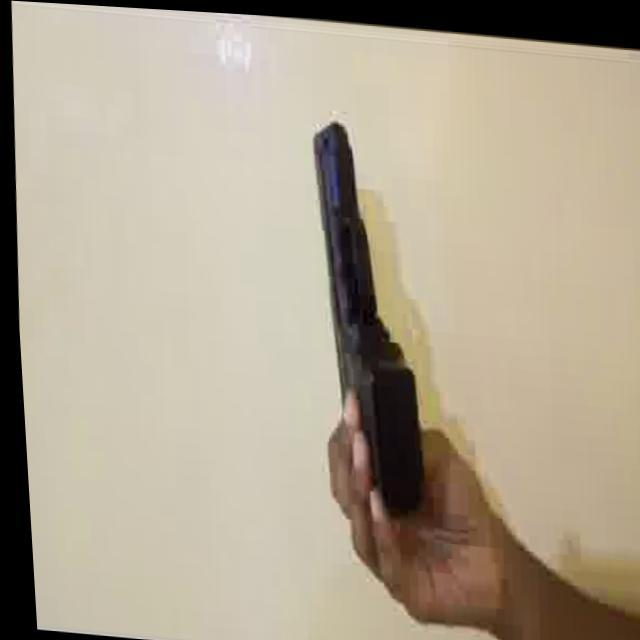weapon: (296, 110, 433, 512)
